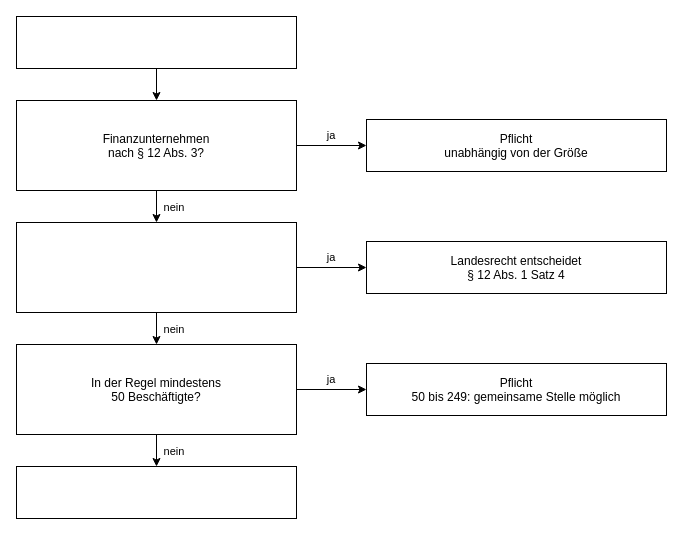
The diagram is 683 pixels wide and 535 high, and some of its shapes have lost their labels. Here are the shapes that lost their labels. From the top down, the centre of each, then its label:
At [156,42]: "Sie beschäftigen mindestens eine Person".
At [156,267]: "Gemeinde oder Unternehmen einer Gemeinde?".
At [156,492]: "Keine Pflicht freiwillig möglich".
